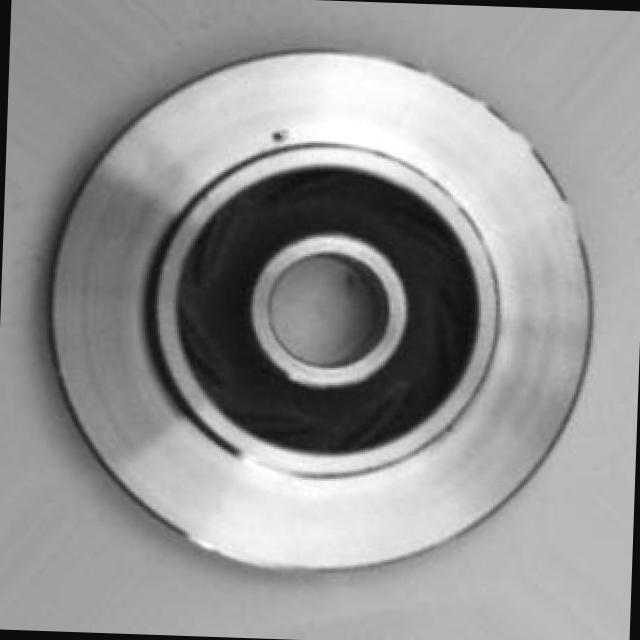Defect: (260, 118, 304, 157)
